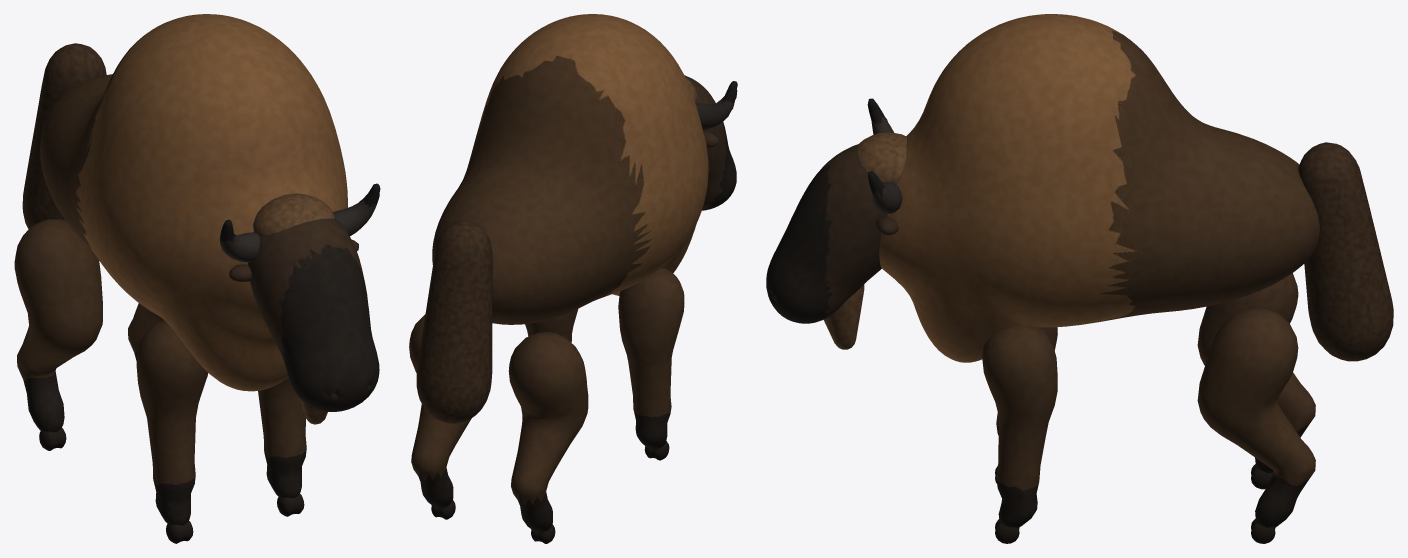
Rendered from animal_bison.glb.
The picture shows the model from 3 angles, left to right: view 1: azimuth 30°, elevation 25°; view 2: azimuth 150°, elevation 25°; view 3: azimuth 270°, elevation 25°; orthographic projection. The views are drawn at different scales.
Parts seen in each view (by area): view 1: animal_bison, head, leg2, leg0, leg1, tail, leg3; view 2: animal_bison, tail, leg2, leg0, leg3, head, leg1; view 3: animal_bison, head, leg3, tail, leg1, leg2.
Boxes of the visible parts, x1,y1,x2,y2 form: animal_bison: (40,14,347,391); head: (219,183,380,424); leg2: (14,219,102,450); leg0: (136,320,208,543); leg1: (258,377,306,516); tail: (22,43,106,229); leg3: (128,303,163,360); animal_bison: (432,14,708,324); tail: (416,220,492,423); leg2: (508,331,588,543); leg0: (618,268,684,460); leg3: (409,314,471,519); head: (684,75,737,210); leg1: (525,309,578,342); animal_bison: (879,14,1319,362); head: (766,98,906,349); leg3: (1197,307,1315,543); tail: (1298,142,1393,361); leg1: (982,326,1057,543); leg2: (1197,273,1315,489).
Size of the model in its own units: 0.3163 by 0.6592 by 0.7648.
1 material, 1 textured.
